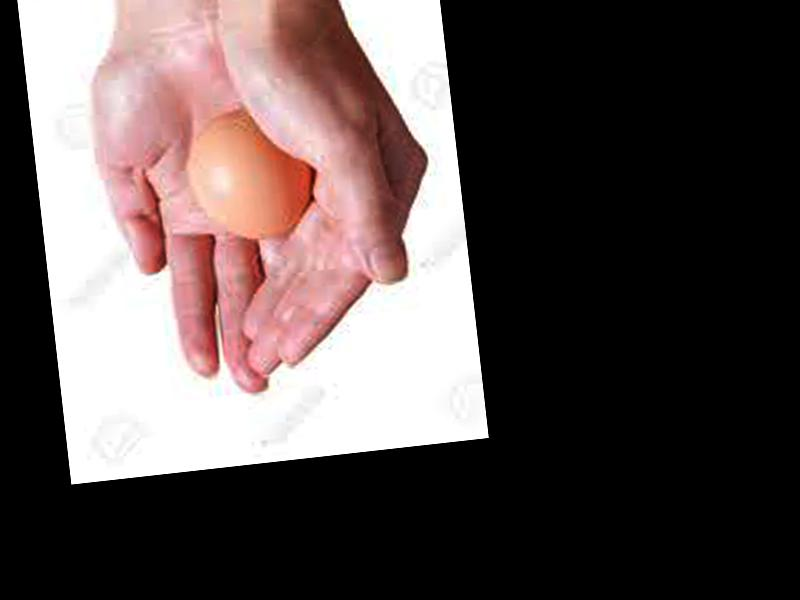Eggs: (188, 110, 316, 244)
